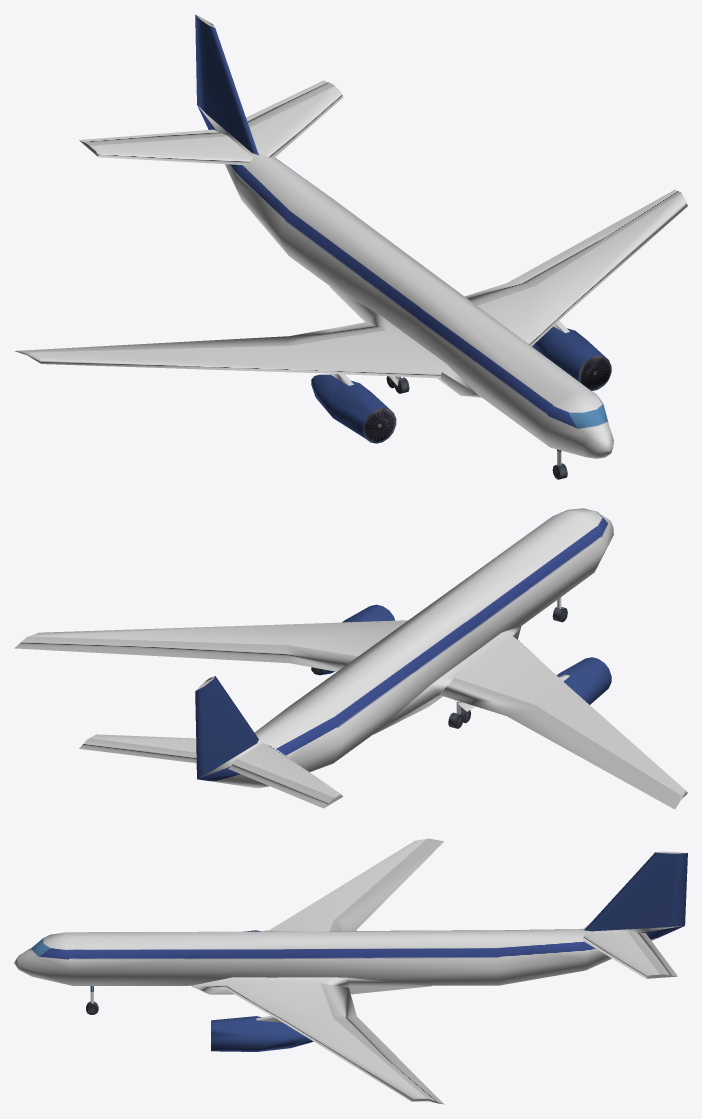
The model's file is airliner.dae.
3 renders of one model, top to bottom at view 1: azimuth 30°, elevation 25°; view 2: azimuth 150°, elevation 25°; view 3: azimuth 270°, elevation 25°, orthographic. The views are drawn at different scales.
Visible parts, largest first — view 1: polymsh3_Pts_Material_Surf; view 2: polymsh3_Pts_Material_Surf; view 3: polymsh3_Pts_Material_Surf.
Boxes of the visible parts, x1,y1,x2,y2 form: polymsh3_Pts_Material_Surf: (15,14,687,479); polymsh3_Pts_Material_Surf: (14,508,687,809); polymsh3_Pts_Material_Surf: (14,838,687,1104).
Bounding box in the file's own units: 414 × 118 × 448.
Materials: 1 (1 with a texture image).
